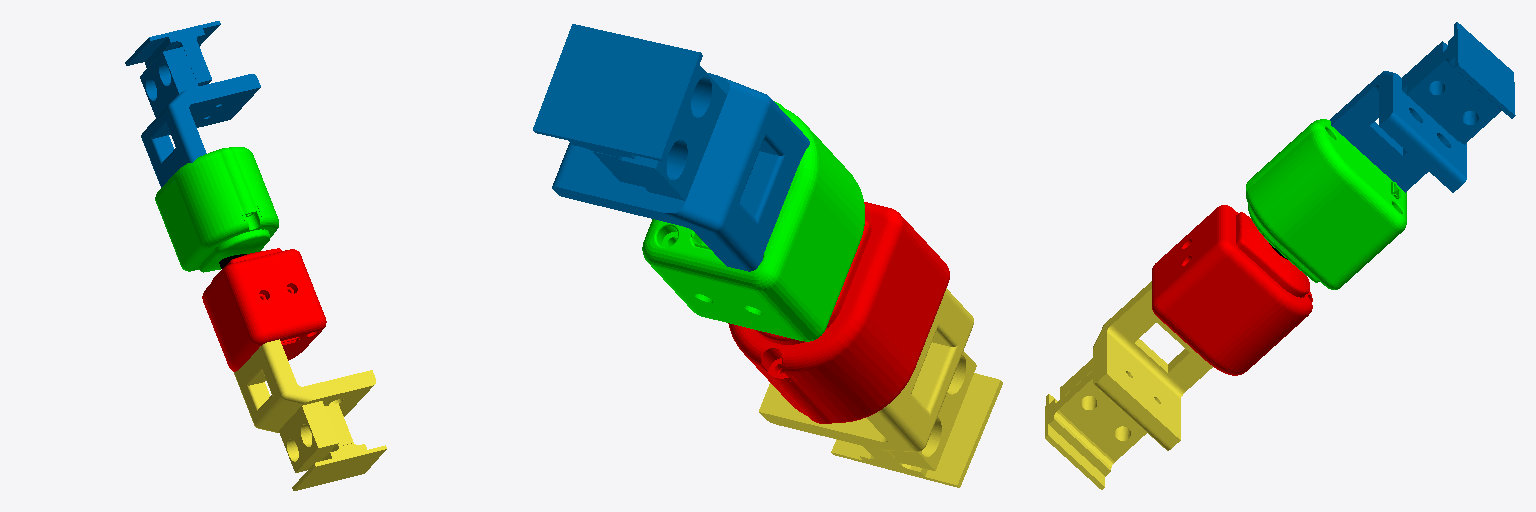
URDF robot description (panda):
<?xml version="1.0" ?>
<robot name="panda" xmlns:xacro="http://www.ros.org/wiki/xacro">
  <material name="Vis"><color rgba="0.0 0.0 0.0 0.0"/></material>
  <link name="panda_link0">
    <visual>
      <geometry>
        <mesh filename="package://franka_description/meshes/visual/link0.dae"/>
      </geometry>
    </visual>
    <collision>
      <geometry>
        <mesh filename="package://franka_description/meshes/collision/link0.obj"/>
      </geometry>
    </collision>
  </link>
  <link name="panda_link1">
    <visual>
      <geometry>
        <mesh filename="package://franka_description/meshes/visual/link1.dae"/>
      </geometry>
    </visual>
    <collision>
      <geometry>
        <mesh filename="package://franka_description/meshes/collision/link1.obj"/>
      </geometry>
    </collision>
  </link>
  <joint name="panda_joint1" type="revolute">
    <safety_controller k_position="100.0" k_velocity="40.0" soft_lower_limit="-2.8973" soft_upper_limit="2.8973"/>
    <origin rpy="0 0 0" xyz="0 0 0.333"/>
    <parent link="panda_link0"/>
    <child link="panda_link1"/>
    <axis xyz="0 0 1"/>
    <dynamics damping="10.0"/>
    <limit effort="87" lower="-2.8973" upper="2.8973" velocity="2.1750"/>
  </joint>
  <link name="panda_link2">
    <visual>
      <geometry>
        <mesh filename="package://franka_description/meshes/visual/link2.dae"/>
      </geometry>
    </visual>
    <collision>
      <geometry>
        <mesh filename="package://franka_description/meshes/collision/link2.obj"/>
      </geometry>
    </collision>
  </link>
  <joint name="panda_joint2" type="revolute">
    <safety_controller k_position="100.0" k_velocity="40.0" soft_lower_limit="-1.7628" soft_upper_limit="1.7628"/>
    <origin rpy="-1.57079632679 0 0" xyz="0 0 0"/>
    <parent link="panda_link1"/>
    <child link="panda_link2"/>
    <axis xyz="0 0 1"/>
    <dynamics damping="10.0"/>
    <limit effort="87" lower="-1.7628" upper="1.7628" velocity="2.1750"/>
  </joint>
  <link name="panda_link3">
    <visual>
      <geometry>
        <mesh filename="package://franka_description/meshes/visual/link3.dae"/>
      </geometry>
    </visual>
    <collision>
      <geometry>
        <mesh filename="package://franka_description/meshes/collision/link3.obj"/>
      </geometry>
    </collision>
  </link>
  <joint name="panda_joint3" type="revolute">
    <safety_controller k_position="100.0" k_velocity="40.0" soft_lower_limit="-2.8973" soft_upper_limit="2.8973"/>
    <origin rpy="1.57079632679 0 0" xyz="0 -0.316 0"/>
    <parent link="panda_link2"/>
    <child link="panda_link3"/>
    <axis xyz="0 0 1"/>
    <dynamics damping="10.0"/>
    <limit effort="87" lower="-2.8973" upper="2.8973" velocity="2.1750"/>
  </joint>
  <link name="panda_link4">
    <visual>
      <geometry>
        <mesh filename="package://franka_description/meshes/visual/link4.dae"/>
      </geometry>
    </visual>
    <collision>
      <geometry>
        <mesh filename="package://franka_description/meshes/collision/link4.obj"/>
      </geometry>
    </collision>
  </link>
  <joint name="panda_joint4" type="revolute">
    <safety_controller k_position="100.0" k_velocity="40.0" soft_lower_limit="-3.0718" soft_upper_limit="-0.0698"/>
    <origin rpy="1.57079632679 0 0" xyz="0.0825 0 0"/>
    <parent link="panda_link3"/>
    <child link="panda_link4"/>
    <axis xyz="0 0 1"/>
    <dynamics damping="10.0"/>
    <limit effort="87" lower="-3.0718" upper="-0.0698" velocity="2.1750"/>
    <!-- something is weird with this joint limit config
    <dynamics damping="10.0"/>
    <limit effort="87" lower="-3.0" upper="0.087" velocity="2.1750"/>  -->
  </joint>
  <link name="panda_link5">
    <visual>
      <geometry>
        <mesh filename="package://franka_description/meshes/visual/link5.dae"/>
      </geometry>
    </visual>
    <collision>
      <geometry>
        <mesh filename="package://franka_description/meshes/collision/link5.obj"/>
      </geometry>
    </collision>
  </link>
  <joint name="panda_joint5" type="revolute">
    <safety_controller k_position="100.0" k_velocity="40.0" soft_lower_limit="-2.8973" soft_upper_limit="2.8973"/>
    <origin rpy="-1.57079632679 0 0" xyz="-0.0825 0.384 0"/>
    <parent link="panda_link4"/>
    <child link="panda_link5"/>
    <axis xyz="0 0 1"/>
    <dynamics damping="10.0"/>
    <limit effort="12" lower="-2.8973" upper="2.8973" velocity="2.6100"/>
  </joint>
  <link name="panda_link6">
    <visual>
      <geometry>
        <mesh filename="package://franka_description/meshes/visual/link6.dae"/>
      </geometry>
    </visual>
    <collision>
      <geometry>
        <mesh filename="package://franka_description/meshes/collision/link6.obj"/>
      </geometry>
    </collision>
  </link>
  <joint name="panda_joint6" type="revolute">
    <safety_controller k_position="100.0" k_velocity="40.0" soft_lower_limit="-0.0175" soft_upper_limit="3.7525"/>
    <origin rpy="1.57079632679 0 0" xyz="0 0 0"/>
    <parent link="panda_link5"/>
    <child link="panda_link6"/>
    <axis xyz="0 0 1"/>
    <dynamics damping="10.0"/>
    <limit effort="12" lower="-0.0175" upper="3.7525" velocity="2.6100"/>
    <!-- <dynamics damping="10.0"/>
    <limit effort="12" lower="-0.0873" upper="3.0" velocity="2.6100"/> -->
  </joint>
  <link name="panda_link7">
    <visual>
      <geometry>
        <mesh filename="package://franka_description/meshes/visual/link7.dae"/>
      </geometry>
    </visual>
    <collision>
      <geometry>
        <mesh filename="package://franka_description/meshes/collision/link7.obj"/>
      </geometry>
    </collision>
  </link>
  <joint name="panda_joint7" type="revolute">
    <safety_controller k_position="100.0" k_velocity="40.0" soft_lower_limit="-2.8973" soft_upper_limit="2.8973"/>
    <origin rpy="1.57079632679 0 0" xyz="0.088 0 0"/>
    <parent link="panda_link6"/>
    <child link="panda_link7"/>
    <axis xyz="0 0 1"/>
    <dynamics damping="10.0"/>
    <limit effort="12" lower="-2.8973" upper="2.8973" velocity="2.6100"/>
  </joint>
  <!--
  <link name="panda_link8"/>
  <joint name="panda_joint8" type="fixed">
    <origin rpy="0 0 0" xyz="0 0 0.107"/>
    <parent link="panda_link7"/>
    <child link="panda_link8"/>
    <axis xyz="0 0 0"/>
  </joint>
  Removing this joint seems to help with some stability things
  -->
  <joint name="panda_hand_joint" type="fixed">
    <!--
    <parent link="panda_link8"/>
    -->
    <parent link="panda_link7"/>
    <child link="panda_hand"/>
    <origin rpy="0 0 -0.785398163397" xyz="0 0 0.107"/>
    <!--
    <origin rpy="0 0 -0.785398163397" xyz="0 0 0"/>
    -->
  </joint>
  <link name="panda_hand">
    <visual>
      <geometry>
        <mesh filename="package://franka_description/meshes/visual/hand.dae"/>
      </geometry>
    </visual>
    <collision>
      <geometry>
        <mesh filename="package://franka_description/meshes/collision/hand.obj"/>
      </geometry>
    </collision>
  </link>
  <joint name="panda_hand_y_axis_joint" type="fixed">
    <parent link="panda_hand"/>
    <child link="panda_hand_y_axis"/>
    <origin rpy="0 0 0" xyz="0 0.01 0"/>
  </joint>
  <link name="panda_hand_y_axis">
  </link>
  <joint name="panda_hand_z_axis_joint" type="fixed">
    <parent link="panda_hand"/>
    <child link="panda_hand_z_axis"/>
    <origin rpy="0 0 0" xyz="0 0 0.01"/>
  </joint>
  <link name="panda_hand_z_axis">
  </link>

  <link name="panda_leftfinger">
  	<inertial>
      <origin rpy="0 0 0" xyz="0 0 0"/>
      <mass value="0.0140552232"/>
      <inertia ixx="4.20413082650939E-06" ixy="0.0" ixz="0.0" iyy="3.90263687466755E-06" iyz="0" izz="1.33474964199095E-06"/>
    </inertial>
    <visual>
      <origin rpy="1.57 0 3.14" xyz="0 0 0.01"/>
      <geometry>
        <mesh filename="package://franka_description_digit/meshes/visual/digit_attachment.obj"/>
      </geometry>
    </visual>
    <collision>
      <!-- <origin rpy="1.57 0 3.14" xyz="0 1.57 0 3.140 0.01"/>
      <geometry>
        <mesh filename="package://franka_description_digit/meshes/collision/digit_attachment.obj"/>
      </geometry> -->
      <origin rpy="0 0 0" xyz="0 0 -0.03"/>
      <geometry>
        <mesh filename="package://franka_description_digit/meshes/collision/finger.obj"/>
      </geometry>
    </collision>
    <!-- <sdf resolution="256"/> -->
  </link>

  <link name="panda_rightfinger">    
  	<inertial>
      <origin rpy="1.57 0 0" xyz="0 0 0"/>
      <mass value="0.0140552232"/>
      <inertia ixx="4.20413082650939E-06" ixy="0.0" ixz="0.0" iyy="3.90263687466755E-06" iyz="0" izz="1.33474964199095E-06"/>
    </inertial>
    <visual>
      <origin rpy="1.57 0 0" xyz="0 0 0.01"/>
      <geometry>
        <mesh filename="package://franka_description_digit/meshes/visual/digit_attachment.obj"/>
      </geometry>
    </visual>
    <collision>
      <!-- <origin rpy="1.57 0 0" xyz="0 0 0.01"/>
      <geometry>
        <mesh filename="package://franka_description_digit/meshes/collision/digit_attachment.obj"/>
      </geometry> -->
      <origin rpy="0 0 3.14159265359" xyz="0 0 -0.03"/>
      <geometry>
        <mesh filename="package://franka_description_digit/meshes/collision/finger.obj"/>
      </geometry>
    </collision>
    <!-- <sdf resolution="256"/> -->
  </link>

  <joint name="panda_finger_joint1" type="prismatic">
    <parent link="panda_hand"/>
    <child link="panda_leftfinger"/>
    <origin rpy="0 0 0" xyz="0 0.03 0.095"/>
    <!-- <origin rpy="3.14 0 0" xyz="0 0 0.095"/> -->
    <axis xyz="0 1 0"/>
    <dynamics damping="10.0"/>
    <limit effort="20" lower="0.00" upper="0.04" velocity="0.2"/>
  </joint>

  <joint name="panda_finger_joint2" type="prismatic">
    <parent link="panda_hand"/>
    <child link="panda_rightfinger"/>
    <origin rpy="0 0 0" xyz="0 -0.03 0.095"/>
    <axis xyz="0 -1 0"/>
    <dynamics damping="10.0"/>
    <limit effort="20" lower="0.00" upper="0.04" velocity="0.2"/>
    <mimic joint="panda_finger_joint1"/>
  </joint>

  <joint name="panda_grip_vis_joint" type="fixed">
    <parent link="panda_hand"/>
    <child link="panda_grip_site"/>
    <origin rpy="0 0 0" xyz="0 0 0.1025"/>
  </joint>
  <link name="panda_grip_site">
    <visual>
      <geometry>
        <sphere radius="0.005"/>
      </geometry>
      <material name="Vis"/>
    </visual>
  </link>

  <joint name="panda_leftfinger_tip_joint" type="fixed">
     <!-- <origin xyz="0.0 0.0441 0.0058" rpy="-1.57 0 -1.57" /> -->
     <origin xyz="0.0 -0.0075 0.0058" rpy="-1.57 0 -1.57" />
     <parent link="panda_leftfinger"/>
     <child link="panda_leftfinger_tip" />
     <!-- <dynamics friction="100" damping="100" /> -->
     <axis xyz="0 1 0"/>
     <limit effort="100" velocity="100"/>
  </joint>

  <link name="panda_leftfinger_tip">
    <contact>
        <friction_anchor/>
        <lateral_friction value="1"/>
        <rolling_friction value="0.1"/>
        <contact_cfm value="0.0"/>
        <contact_erp value="1.0"/>
      </contact>
      <inertial>
        <origin rpy="0 0 0" xyz="0 0 0"/>
        <mass value="0.0140552232"/>
        <inertia ixx="4.20413082650939E-06" ixy="0.0" ixz="0.0" iyy="3.90263687466755E-06" iyz="0" izz="1.33474964199095E-06"/>
      </inertial>
      <visual>
          <geometry>
             <mesh filename="package://franka_description_digit/digit_center/digit_center_cam.stl"/>
          </geometry>
          <material name="red">
            <color rgba="1. 0. 0. 1"/>
          </material>
      </visual>
      <collision>
          <geometry>
            <box size="0.013 0.004 0.013"/>
            <!-- <box size="0.03 0.03 0.03"/> -->
          </geometry>
          <!-- <geometry>
             <mesh filename="package://franka_description_digit/digit_center/digit_center_cam.stl"/>
         </geometry>
         <sdf resolution="512"/> -->
     </collision>
  </link>

  <joint name="panda_rightfinger_tip_joint" type="fixed">
     <origin xyz="0.0 0.008 0.0058" rpy="-1.57 0 1.57" />
      <!-- <origin xyz="0.0 0.008 -0.0" rpy="0 3.14 -1.57" /> -->
     <!-- <origin xyz="-0.06 0.045 0.0" rpy="-3.14 -0.12 -3.14" /> -->
     <parent link="panda_rightfinger"/>
     <child link="panda_rightfinger_tip" />
     <dynamics friction="100" damping="100" />
     <axis xyz="0 -1 0"/>
     <limit effort="100" velocity="100"/>
  </joint>

  <link name="panda_rightfinger_tip">
    <contact>
        <friction_anchor/>
        <lateral_friction value="1"/>
        <rolling_friction value="0.1"/>
        <contact_cfm value="0.0"/>
        <contact_erp value="1.0"/>
      </contact>
      <inertial>
        <origin rpy="0 0 0" xyz="0 0 0"/>
        <mass value="0.0140552232"/>
        <inertia ixx="4.20413082650939E-06" ixy="0.0" ixz="0.0" iyy="3.90263687466755E-06" iyz="0" izz="1.33474964199095E-06"/>
      </inertial>
      <visual>
          <geometry>
             <mesh filename="package://franka_description_digit/digit_center/digit_center_cam.stl"/>
          </geometry>
          <material name="green">
            <color rgba="0. 1. 0. 1"/>
          </material>
      </visual>
      <collision>
          <geometry>
            <box size="0.013 0.004 0.013"/>
            <!-- <box size="0.03 0.03 0.03"/> -->
          </geometry>
          <!-- <geometry>
             <mesh filename="package://franka_description_digit/digit_center/digit_center_cam.stl"/>
         </geometry>
         <sdf resolution="512"/> -->
     </collision>
  </link>

</robot>

--- Facts derived from the render (not from the file) ---
3 views of the same robot in one strip: view 1: azimuth 30°, elevation 25°; view 2: azimuth 150°, elevation 25°; view 3: azimuth 270°, elevation 25° (orthographic).
Model panda with 16 links and 15 joints (7 revolute, 2 prismatic, 6 fixed), rooted at panda_link0, posed all joints at 0 but 1 set to mid-range because 0 is outside their limits (panda_joint4 = -1.57).
Links seen in each view (by area): view 1: panda_leftfinger, panda_rightfinger_tip, panda_rightfinger, panda_leftfinger_tip; view 2: panda_rightfinger, panda_leftfinger_tip, panda_rightfinger_tip, panda_leftfinger; view 3: panda_leftfinger_tip, panda_rightfinger_tip, panda_rightfinger, panda_leftfinger.
Boxes of the visible links, x1=… form: panda_leftfinger: x1=234, y1=339, x2=386, y2=490; panda_rightfinger_tip: x1=155, y1=147, x2=278, y2=272; panda_rightfinger: x1=125, y1=21, x2=260, y2=187; panda_leftfinger_tip: x1=202, y1=248, x2=326, y2=371; panda_rightfinger: x1=533, y1=24, x2=809, y2=271; panda_leftfinger_tip: x1=728, y1=202, x2=949, y2=423; panda_rightfinger_tip: x1=642, y1=101, x2=864, y2=341; panda_leftfinger: x1=759, y1=288, x2=1002, y2=487; panda_leftfinger_tip: x1=1152, y1=205, x2=1312, y2=375; panda_rightfinger_tip: x1=1246, y1=119, x2=1406, y2=289; panda_rightfinger: x1=1330, y1=22, x2=1515, y2=192; panda_leftfinger: x1=1045, y1=281, x2=1212, y2=489.
Bounding box of the posed robot: 0.0354 × 0.1193 × 0.1194 m (x, y, z).
Meshes: 11 distinct files referenced, 4 mesh visuals loaded (1 binary STL, 1 OBJ); not drawn: 9 (reference not matched to a file when rendering).